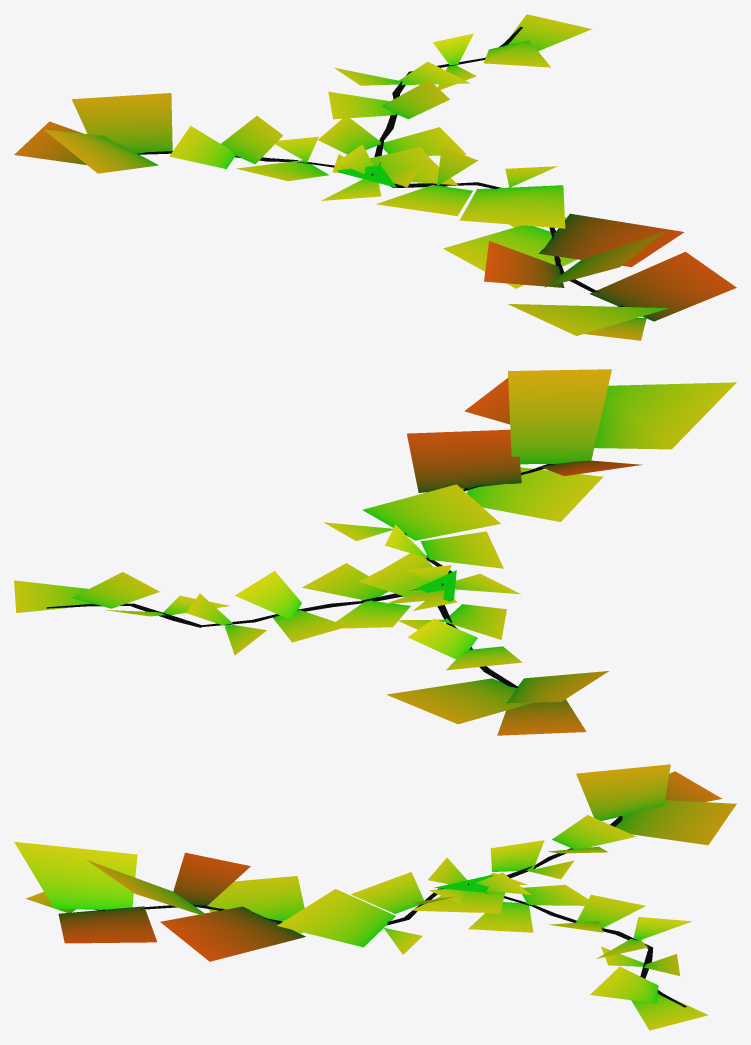
Rendered from Mile-a-minute Vine_LOD2_Var4_sfqns.fbx.
3 renders of one model, top to bottom at view 1: azimuth 30°, elevation 25°; view 2: azimuth 150°, elevation 25°; view 3: azimuth 270°, elevation 25°, orthographic. The views are drawn at different scales.
Parts seen in each view (by area): view 1: _8155_Var4_LOD2; view 2: _8155_Var4_LOD2; view 3: _8155_Var4_LOD2.
Boxes of the visible parts, x1,y1,x2,y2 form: _8155_Var4_LOD2: [14, 14, 736, 340]; _8155_Var4_LOD2: [14, 369, 736, 735]; _8155_Var4_LOD2: [14, 764, 736, 1030].
Size of the model in its own units: 43.79 by 4.2 by 51.92.
